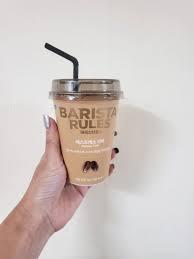baristarules_espressolatte: (47, 74, 119, 188)
